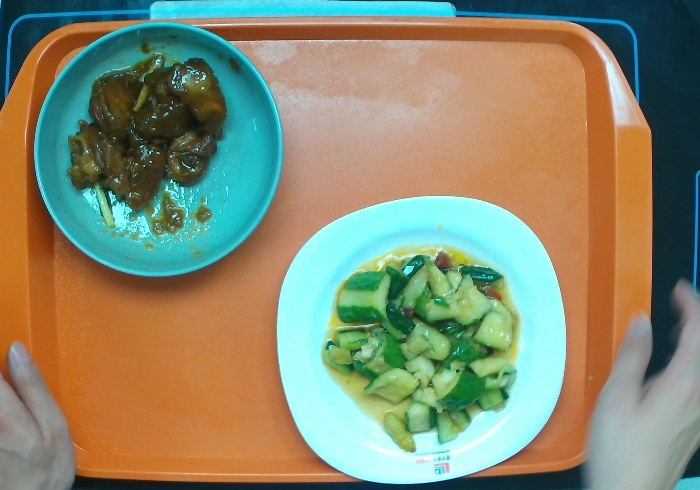ZNLD-Qing_Hua_Yuan_Wan: (33, 19, 284, 277)
ZNLD-Yuan_Jiao_Pan: (273, 193, 569, 486)
